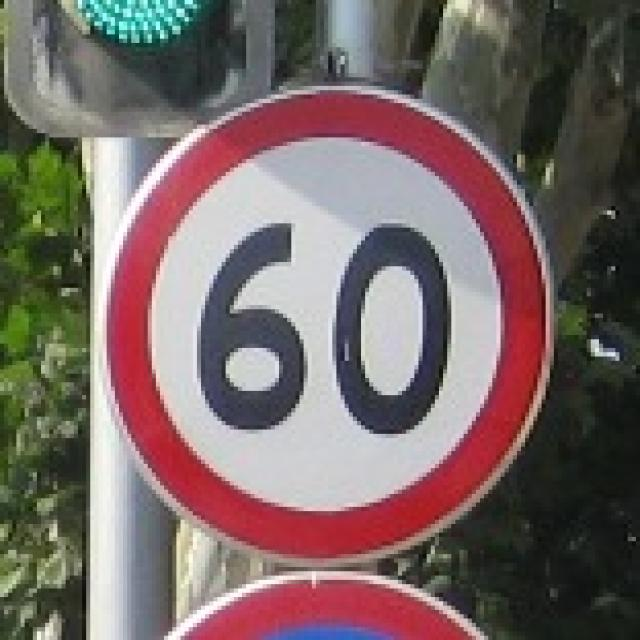Speed Limit -60-: (195, 218, 458, 439)
